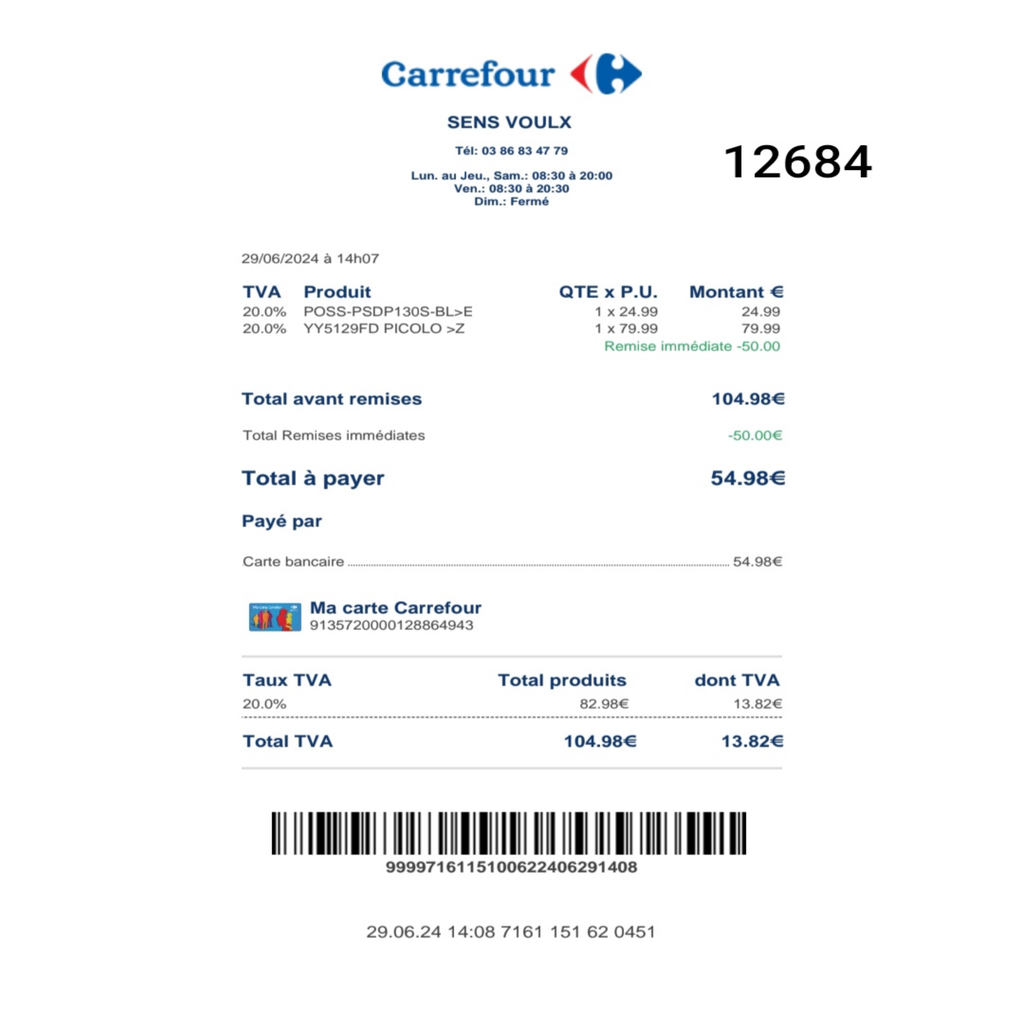recipt: (6, 4, 1022, 1018)
